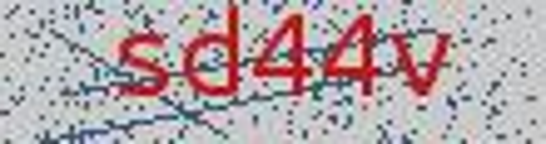4: (250, 9, 315, 104), (322, 11, 379, 106)
d: (177, 2, 247, 102)
s: (113, 26, 175, 102)
v: (383, 22, 457, 103)
